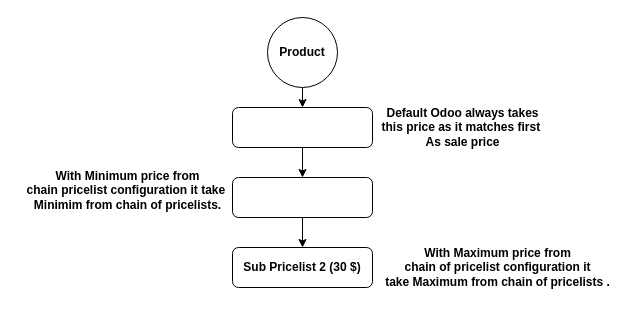
This 634x310 diagram has some shape labels left out. Here are the shapes that lost their labels. From the top down, the centre of each, then its label:
At point (302, 127): "Main Pricelist (20 $)".
At point (302, 197): "Sub Pricelist 1 (10 $)".
